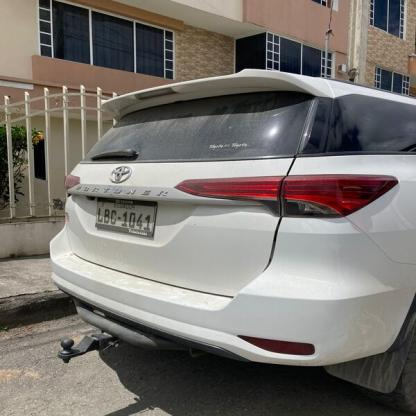Placa: (93, 197, 156, 233)
